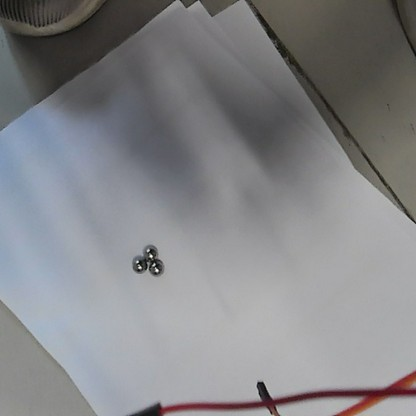ironball: (130, 255, 148, 274), (148, 259, 165, 278), (143, 243, 158, 260)
